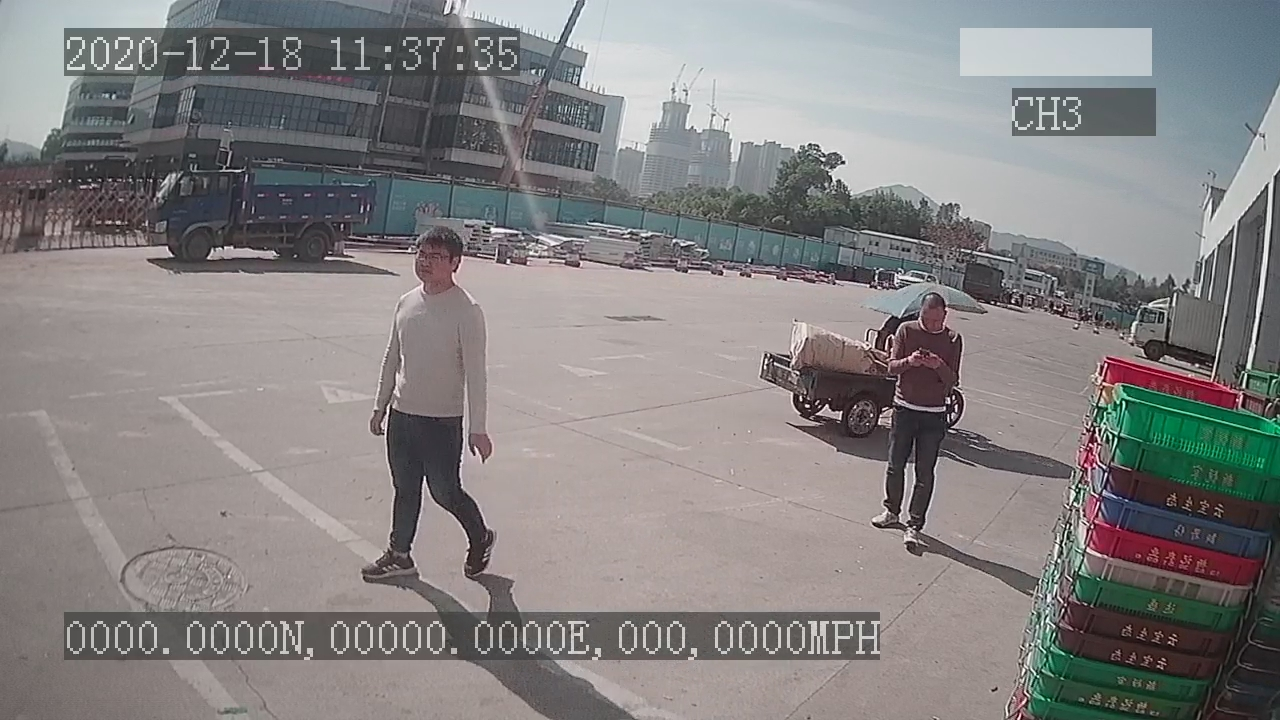person: (360, 227, 504, 583)
